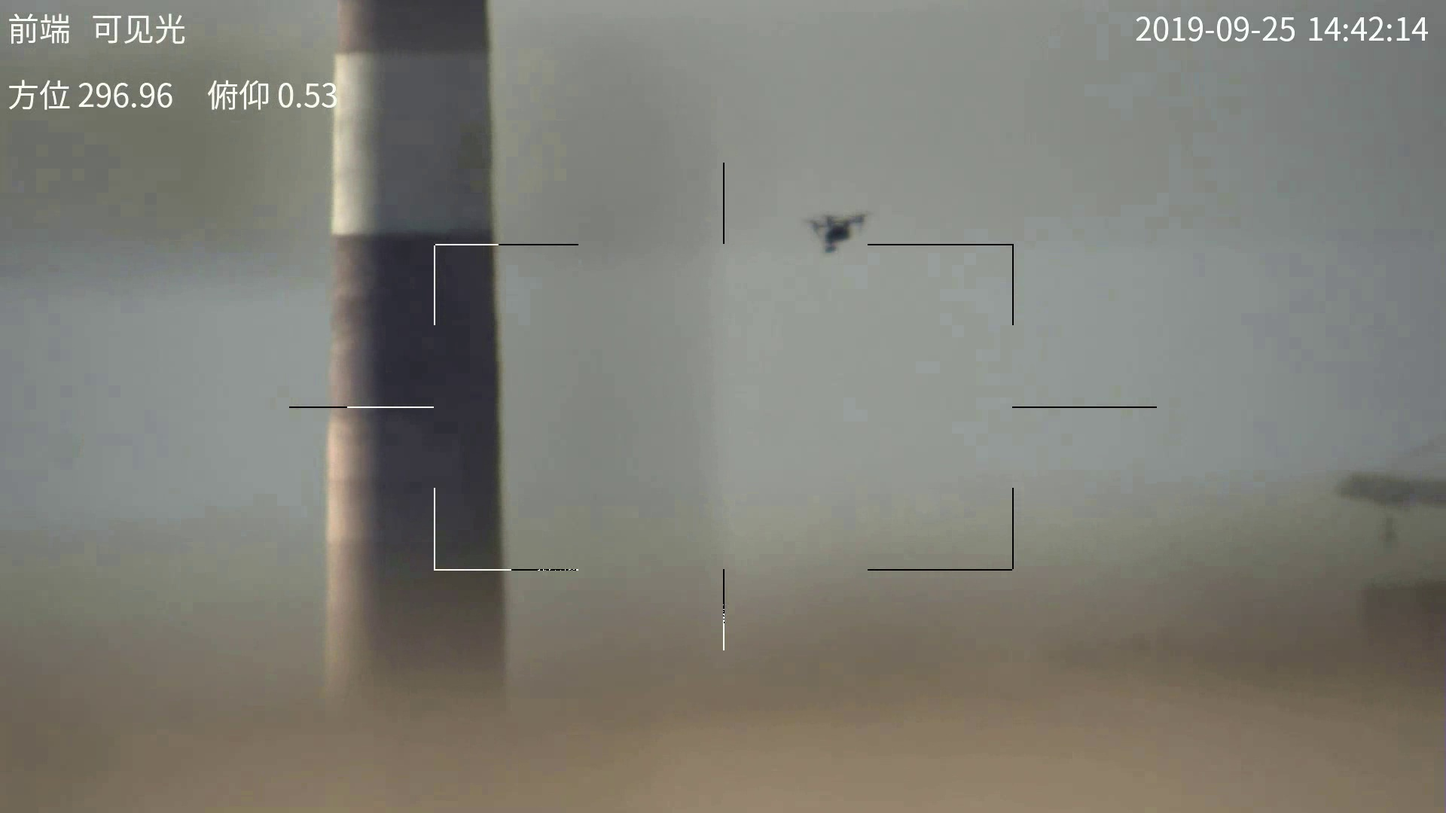drone_other: (799, 206, 877, 251)
